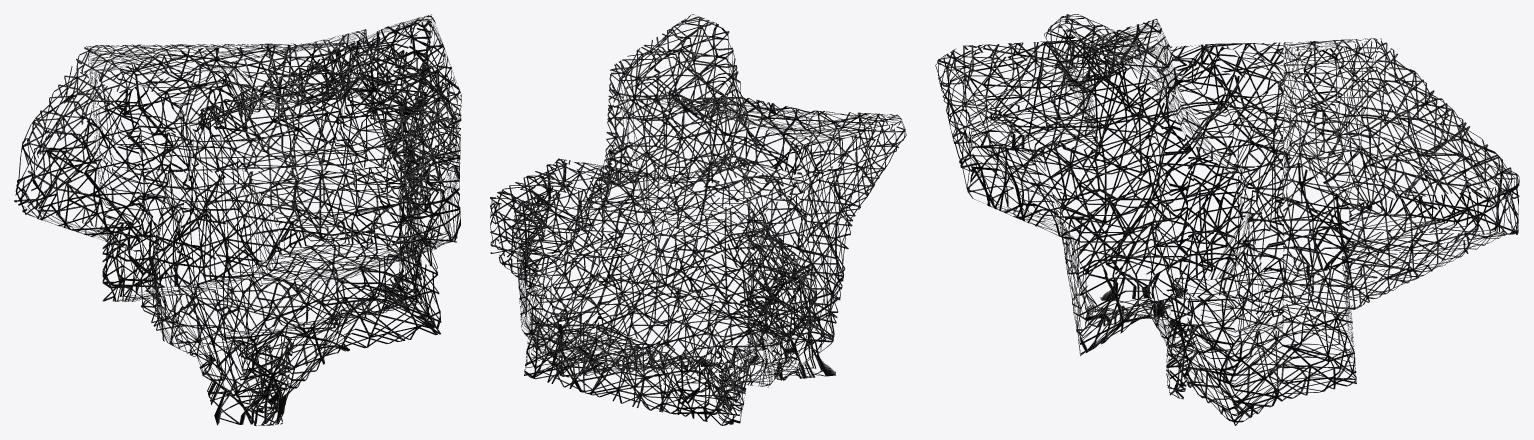
Rendered from caillou_texture1.FBX.
3 renders of one model, left to right at view 1: azimuth 30°, elevation 25°; view 2: azimuth 150°, elevation 25°; view 3: azimuth 270°, elevation 25°, orthographic. The views are drawn at different scales.
Parts seen in each view (by area): view 1: Cube; view 2: Cube; view 3: Cube.
Part boxes in pixels (left/top/right/bottom): Cube: left=14, top=14, right=461, bottom=425; Cube: left=490, top=14, right=906, bottom=425; Cube: left=935, top=14, right=1519, bottom=425.
Size of the model in its own units: 696 by 694 by 879.
